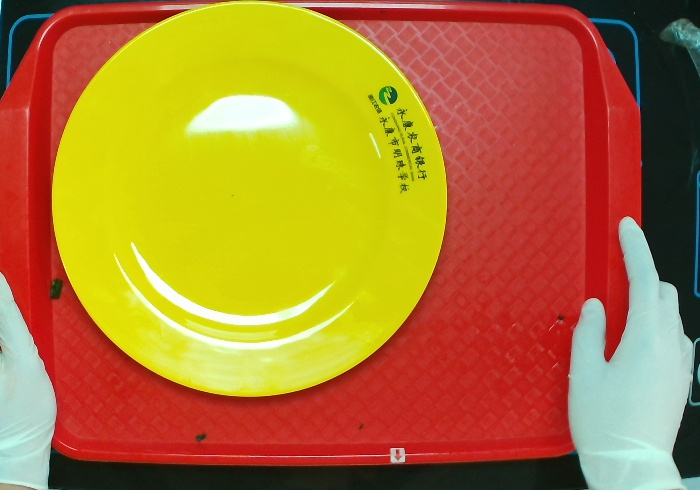YKMZ-Huang_Se_Mian_Pan: (45, 1, 456, 409)
